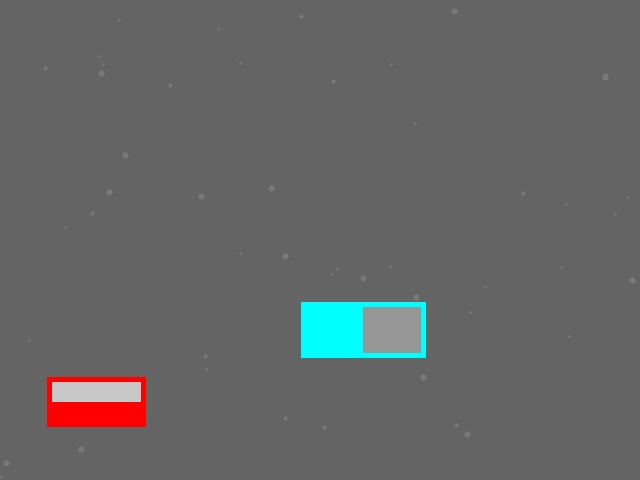car: (47, 377, 145, 426)
truck: (301, 302, 425, 357)
